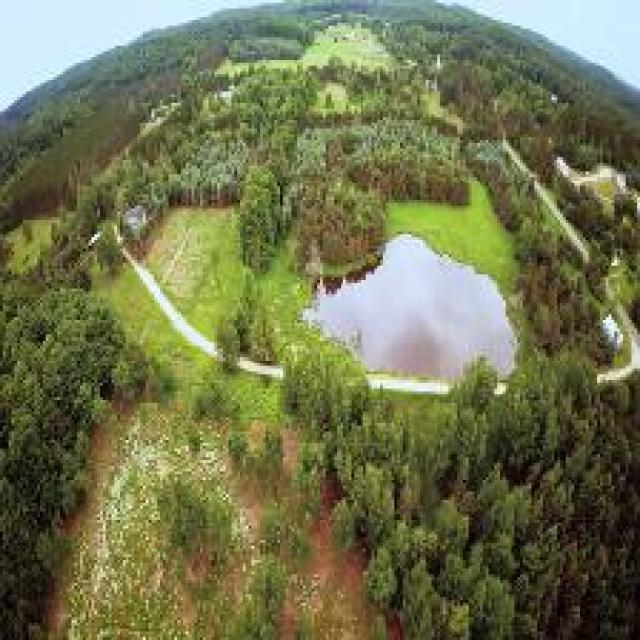other: (284, 241, 542, 368)
